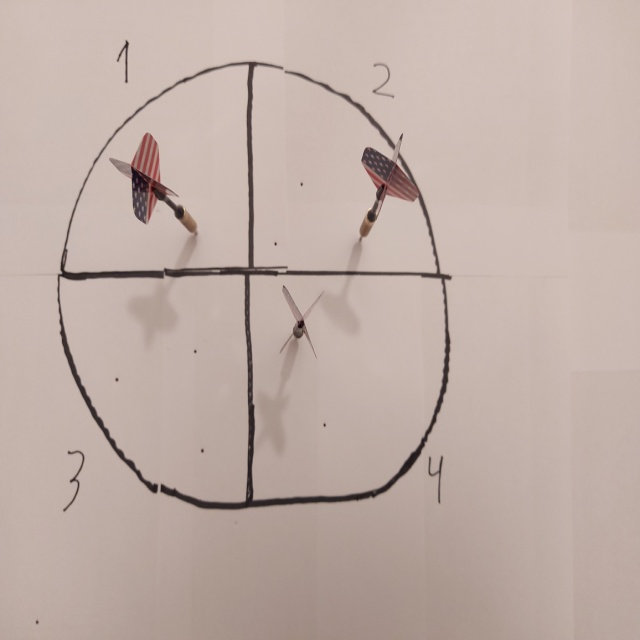Dart: (97, 128, 213, 250), (344, 127, 426, 256), (263, 279, 328, 366)
